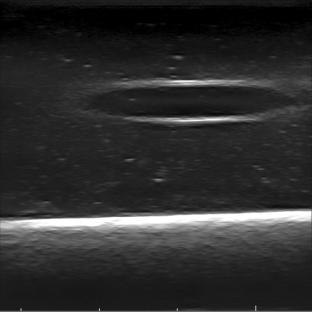vessel: (86, 78, 295, 125)
